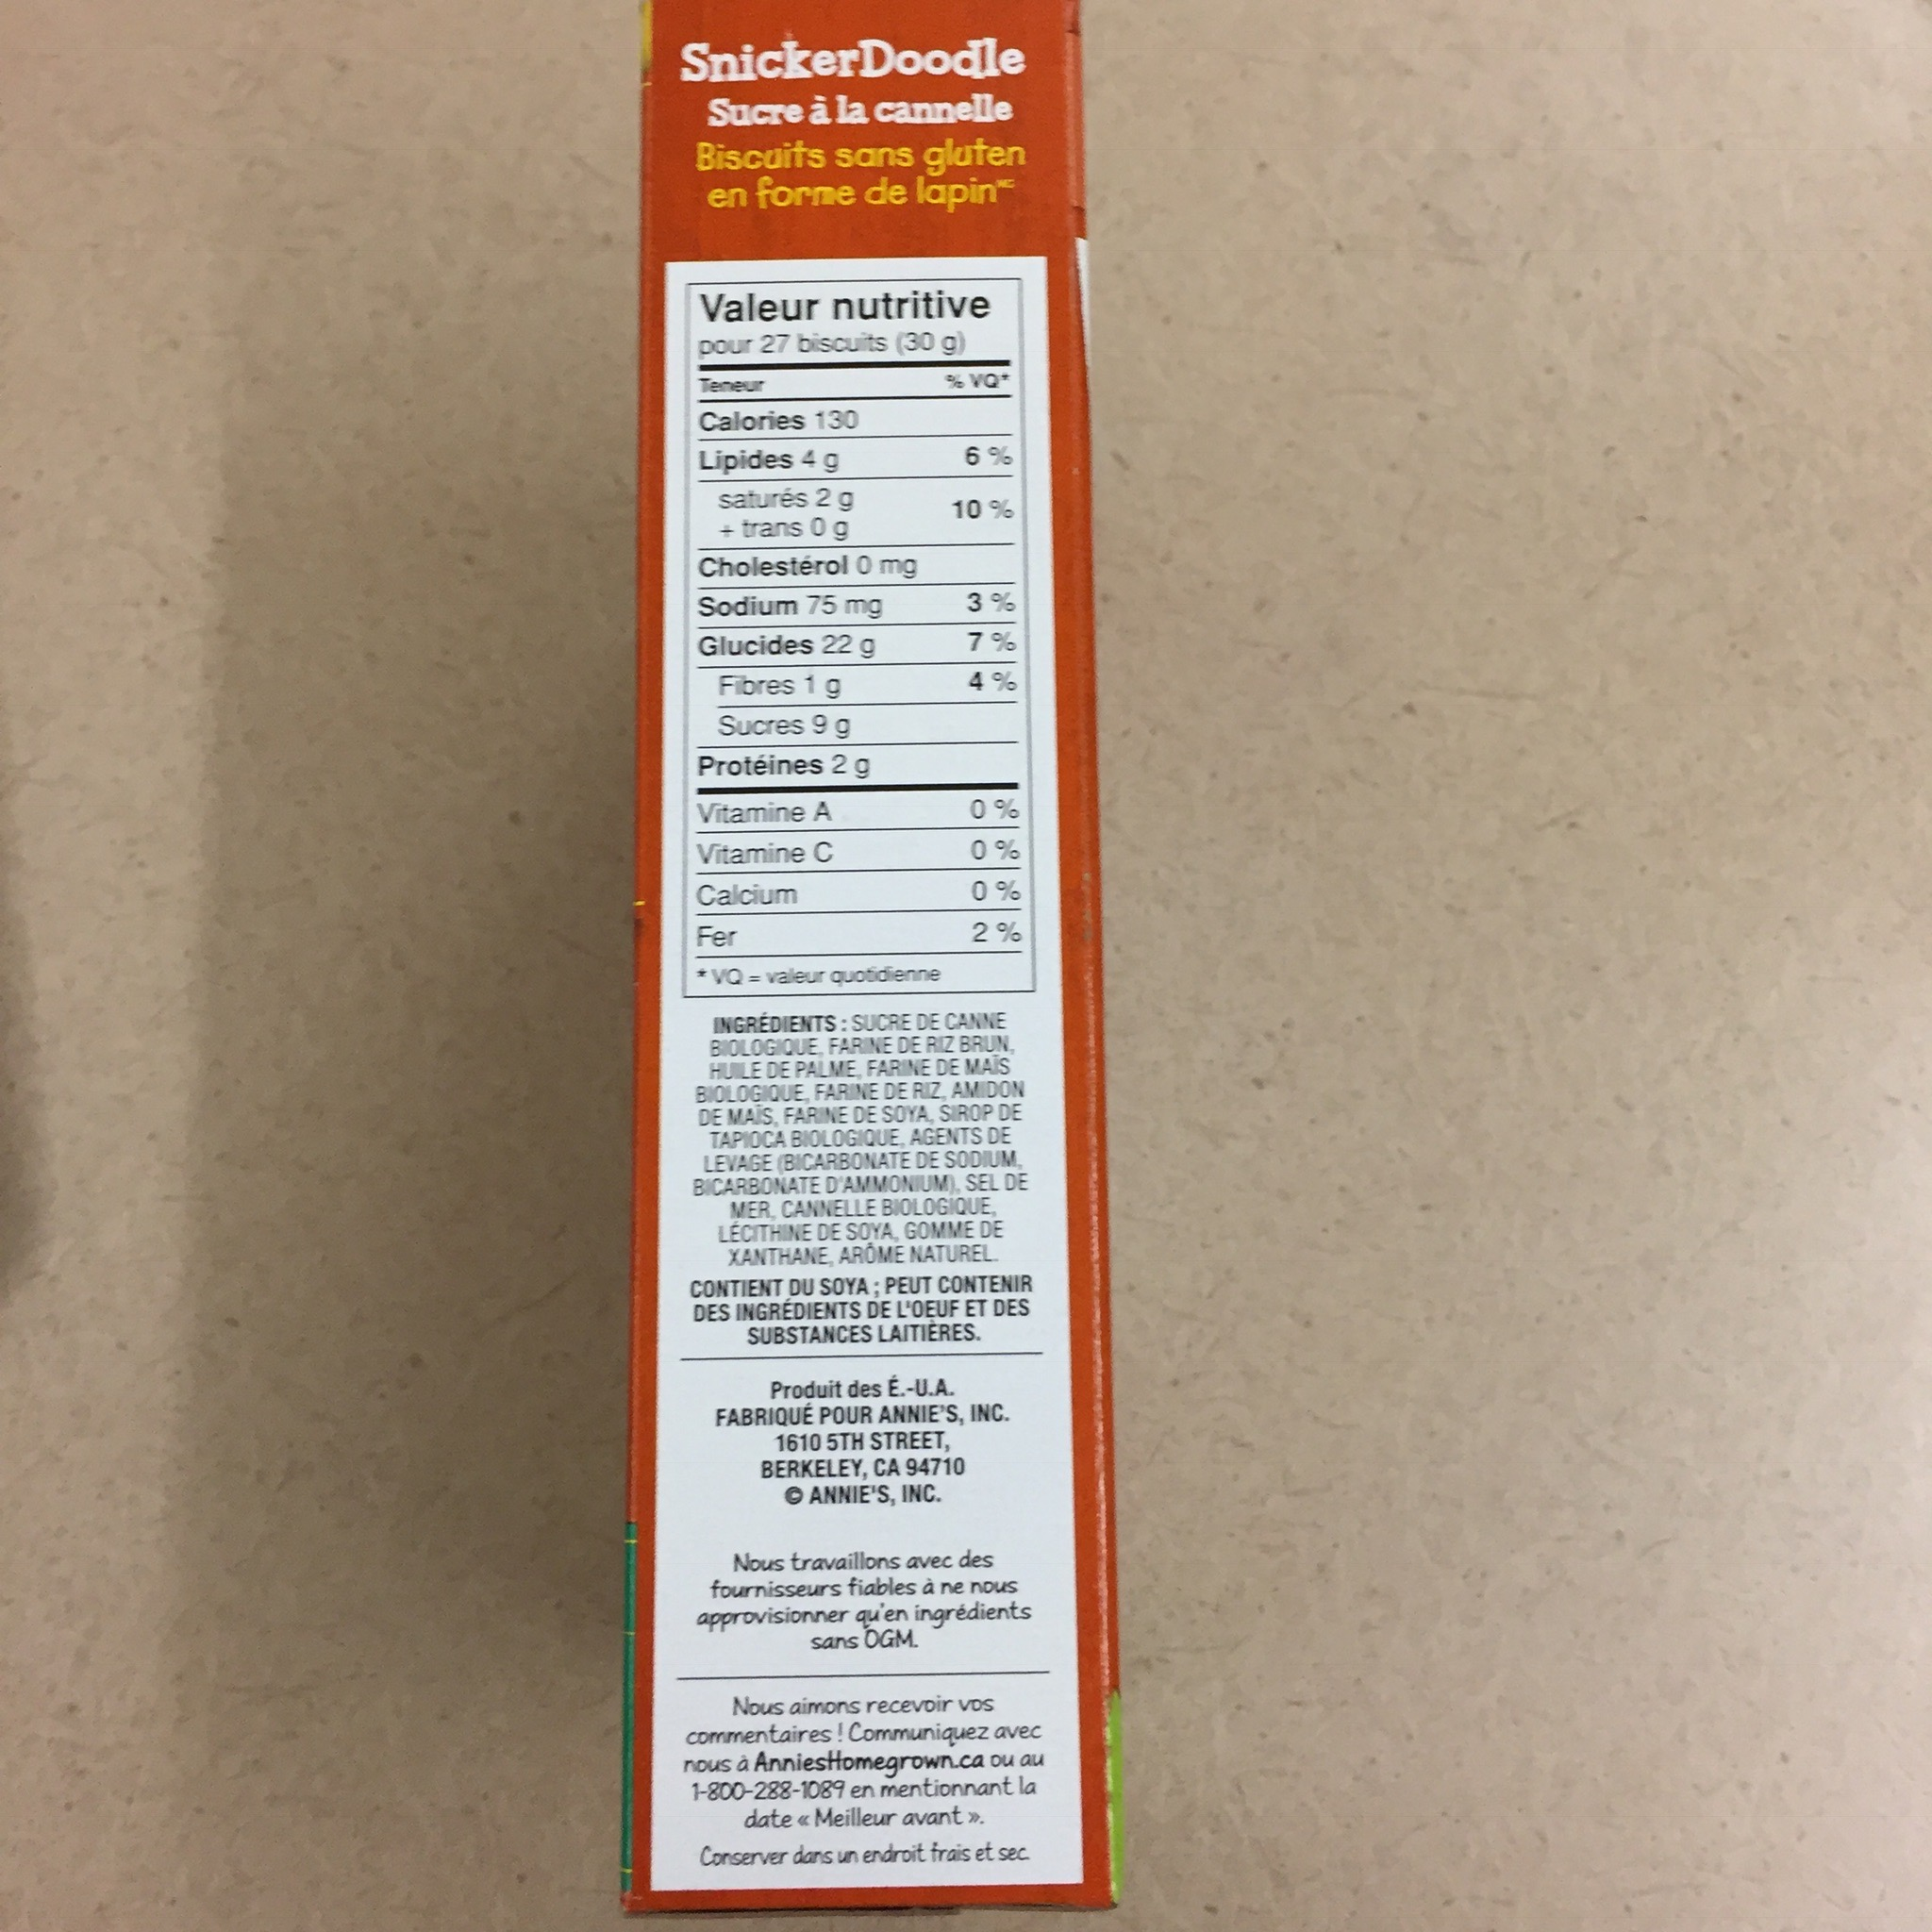annies_snickerdoodle_cinnamon_sugar: (614, 2, 1129, 1921)
